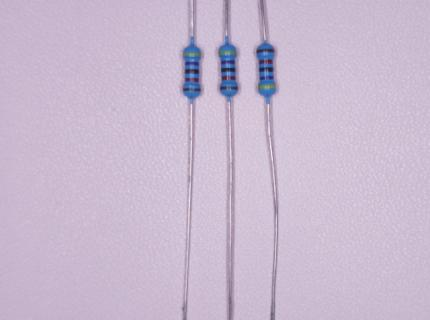Black band: (185, 69, 199, 74), (221, 68, 236, 72), (259, 68, 274, 72)
Brown band: (220, 86, 239, 90), (256, 49, 275, 53), (182, 88, 201, 91)
Red band: (259, 59, 273, 64), (221, 76, 236, 80), (185, 78, 199, 82)
Violet band: (185, 61, 199, 65), (221, 60, 235, 64), (260, 76, 273, 80)
Yellow band: (183, 52, 201, 56), (219, 50, 237, 54), (258, 85, 276, 89)
